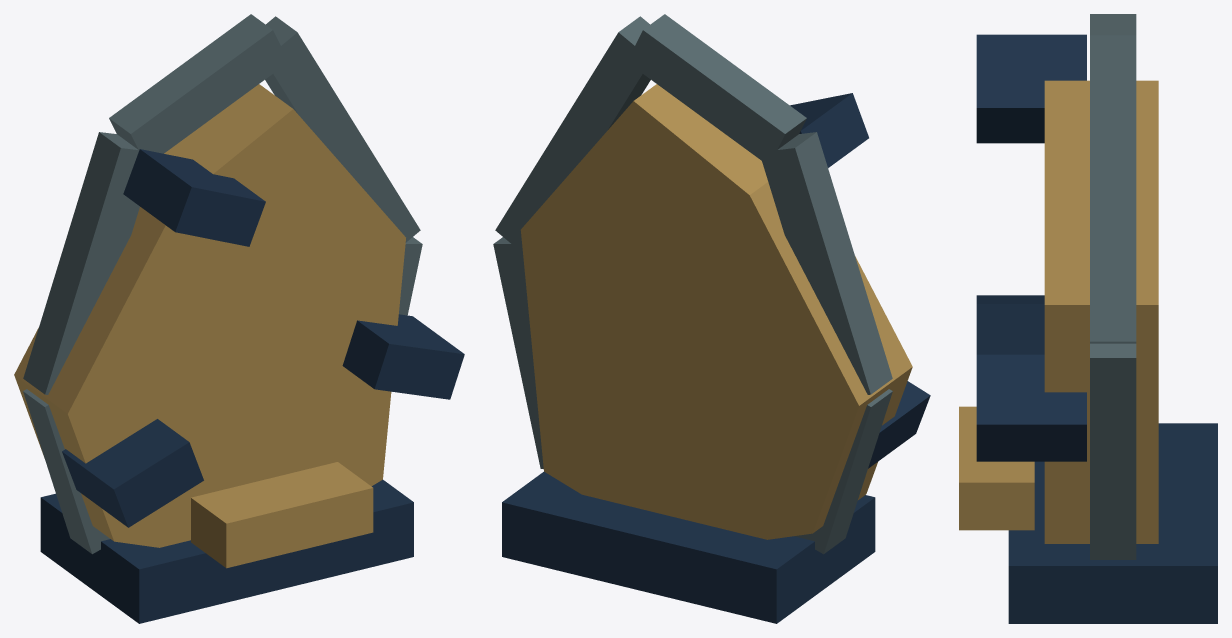
File: LIGHT_SHIELD_CELL.shadow.glb
3 renders of one model, left to right at view 1: azimuth 30°, elevation 25°; view 2: azimuth 150°, elevation 25°; view 3: azimuth 270°, elevation 25°, orthographic. The views are drawn at different scales.
Visible parts, largest first — view 1: Body_Mesh; view 2: Body_Mesh; view 3: Body_Mesh.
Boxes of the visible parts, x1,y1,x2,y2 form: Body_Mesh: (14, 14, 464, 623); Body_Mesh: (493, 14, 930, 623); Body_Mesh: (959, 14, 1217, 623).
Bounding box in the file's own units: 0.7971 × 1.06 × 0.445.
